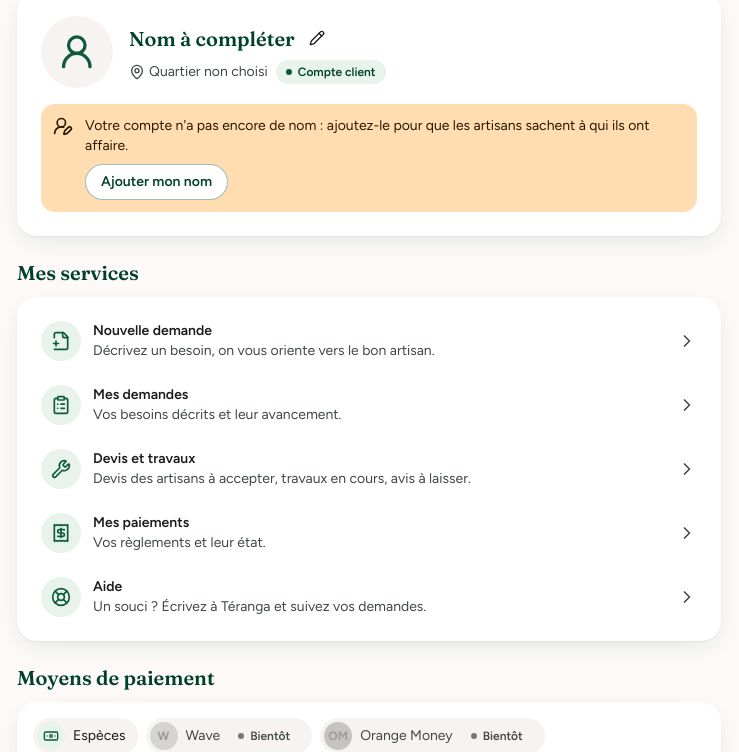
UserProfileScreen › compte hérité (nom resté au numéro de téléphone) › ne propose jamais le numéro comme valeur de départ du nom
Click the button "Ajouter mon nom": (156, 182) x1=85 y1=164 x2=228 y2=200
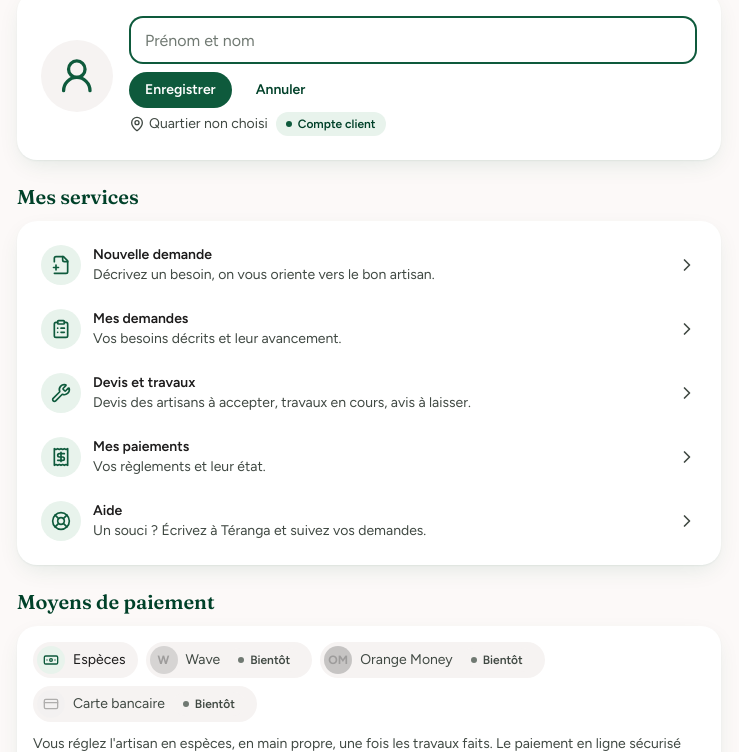
Result: the field named "Nom complet" is empty at x1=129 y1=16 x2=697 y2=64
